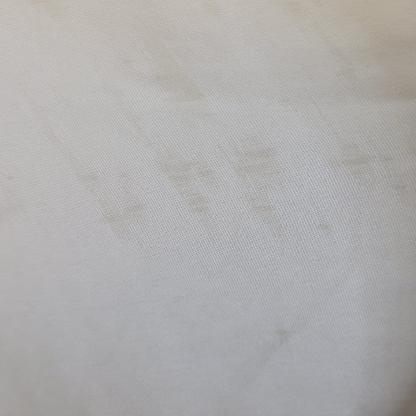spot: (61, 160, 154, 240), (135, 133, 222, 213), (204, 148, 300, 212), (143, 45, 213, 119), (325, 41, 359, 84)
